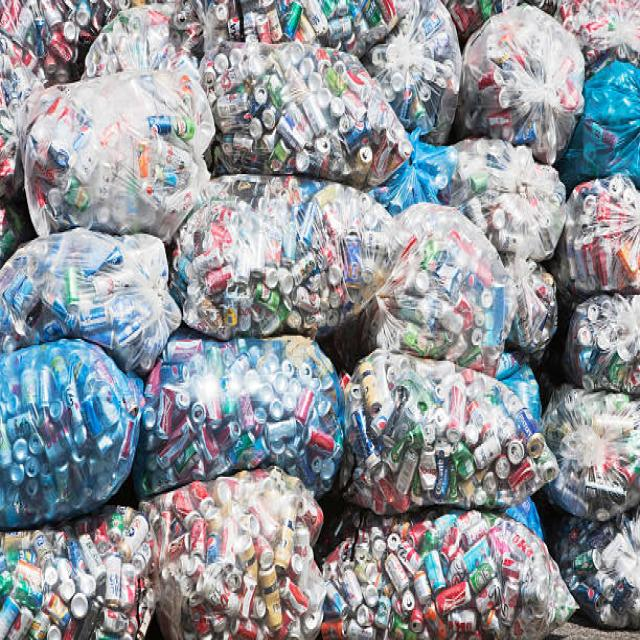metal: (12, 49, 634, 591)
